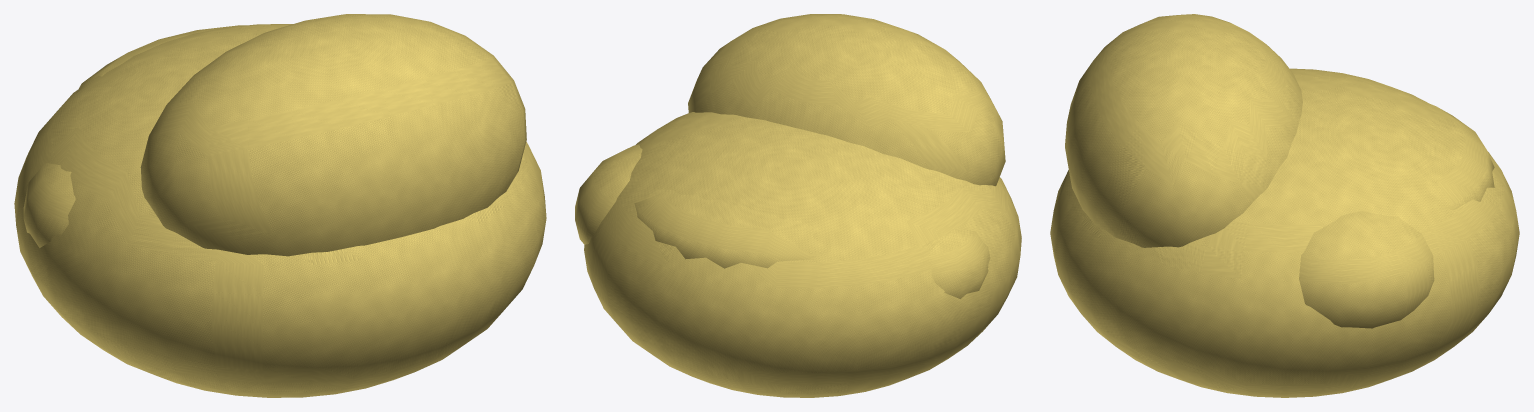
The model's file is beanbag_yellow.glb.
3 views of the same model, side by side, from view 1: azimuth 30°, elevation 25°; view 2: azimuth 150°, elevation 25°; view 3: azimuth 270°, elevation 25° (orthographic). The views are drawn at different scales.
Parts seen in each view (by area): view 1: beanbag_yellow_body; view 2: beanbag_yellow_body; view 3: beanbag_yellow_body.
Part boxes in pixels (x1,y1,x2,y2): beanbag_yellow_body: (14, 14, 546, 397); beanbag_yellow_body: (575, 14, 1021, 397); beanbag_yellow_body: (1050, 14, 1519, 397).
Size of the model in its own units: 1 by 0.7681 by 1.
3 materials, 3 textured.
